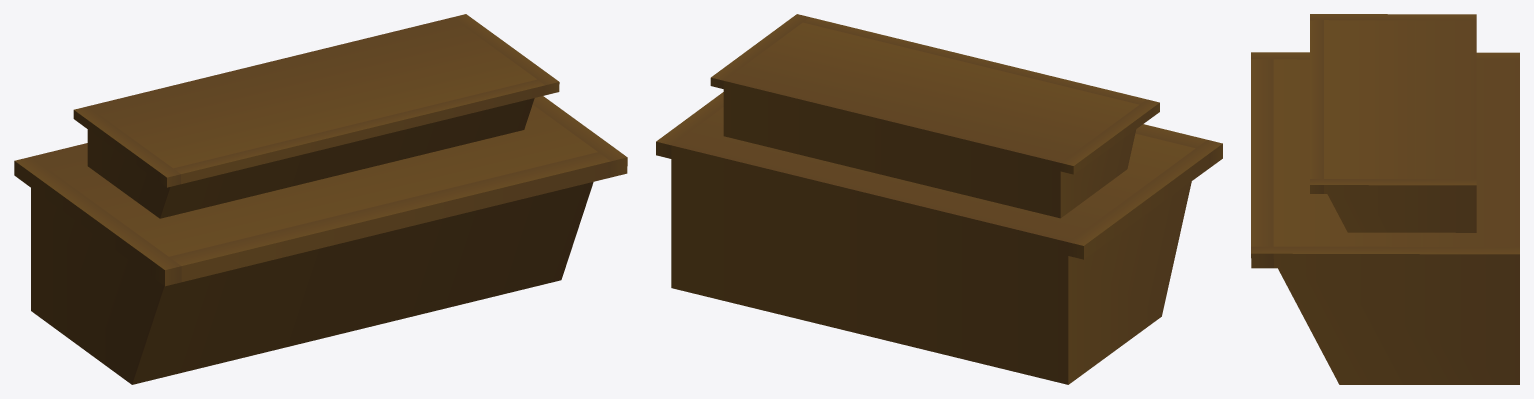
Rendered from MarketTable2.fbx.
3 renders of one model, left to right at view 1: azimuth 30°, elevation 25°; view 2: azimuth 150°, elevation 25°; view 3: azimuth 270°, elevation 25°, orthographic. The views are drawn at different scales.
Parts seen in each view (by area): view 1: MarketTable2; view 2: MarketTable2; view 3: MarketTable2.
Boxes of the visible parts, x1=… form: MarketTable2: x1=14, y1=14, x2=627, y2=384; MarketTable2: x1=656, y1=14, x2=1222, y2=384; MarketTable2: x1=1251, y1=14, x2=1519, y2=384.
Size of the model in its own units: 212 by 93.97 by 119.
